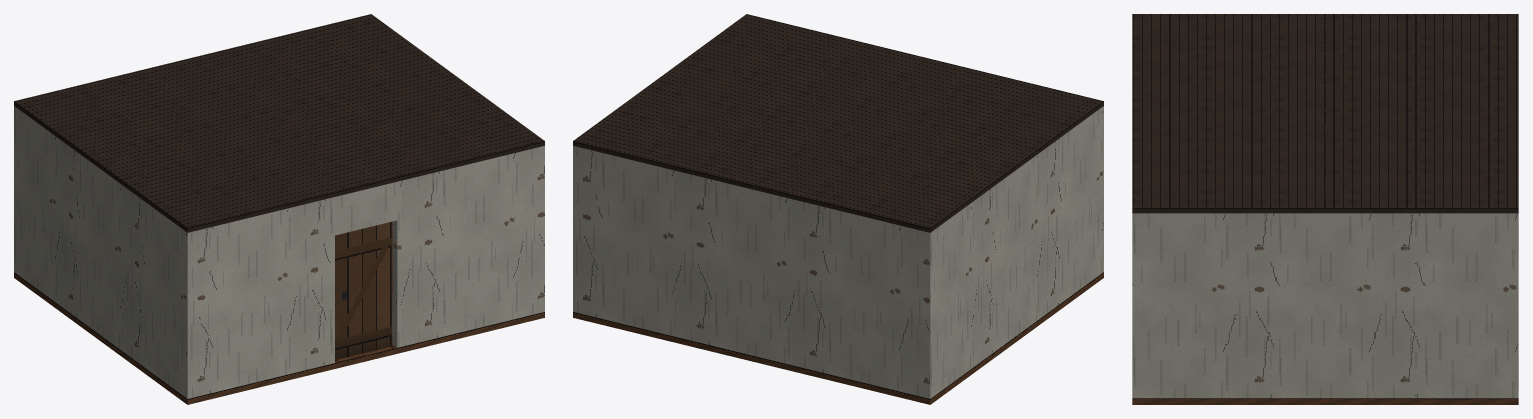
File: enfermeira.glb
3 renders of one model, left to right at view 1: azimuth 30°, elevation 25°; view 2: azimuth 150°, elevation 25°; view 3: azimuth 270°, elevation 25°, orthographic. The views are drawn at different scales.
Parts seen in each view (by area): view 1: sala-col, teto-col; view 2: sala-col, teto-col; view 3: teto-col, sala-col.
Part boxes in pixels (bbox=[...]): sala-col: bbox=[14, 106, 544, 404]; teto-col: bbox=[14, 14, 544, 232]; sala-col: bbox=[573, 106, 1103, 404]; teto-col: bbox=[573, 14, 1103, 232]; teto-col: bbox=[1132, 14, 1518, 213]; sala-col: bbox=[1132, 213, 1518, 404].
Size of the model in its own units: 6.3 by 2.98 by 5.3.
Materials: 12 (12 with a texture image).
